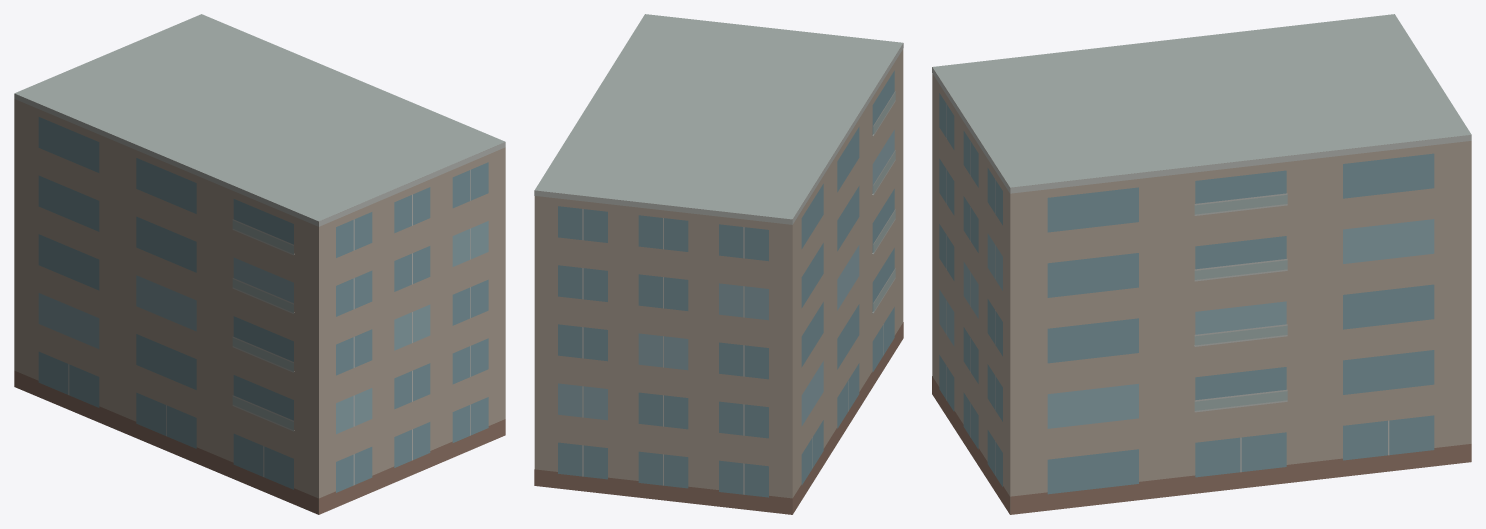
File: survey-upis-32713732.glb
3 renders of one model, left to right at view 1: azimuth 30°, elevation 25°; view 2: azimuth 150°, elevation 25°; view 3: azimuth 270°, elevation 25°, orthographic. The views are drawn at different scales.
Parts seen in each view (by area): view 1: survey-upis-32713732.tmp; view 2: survey-upis-32713732.tmp; view 3: survey-upis-32713732.tmp.
Part boxes in pixels (<box>): survey-upis-32713732.tmp: <box>14,14,505,514</box>; survey-upis-32713732.tmp: <box>534,14,903,514</box>; survey-upis-32713732.tmp: <box>932,14,1471,514</box>.
Size of the model in its own units: 15.03 by 13.2 by 19.73.
